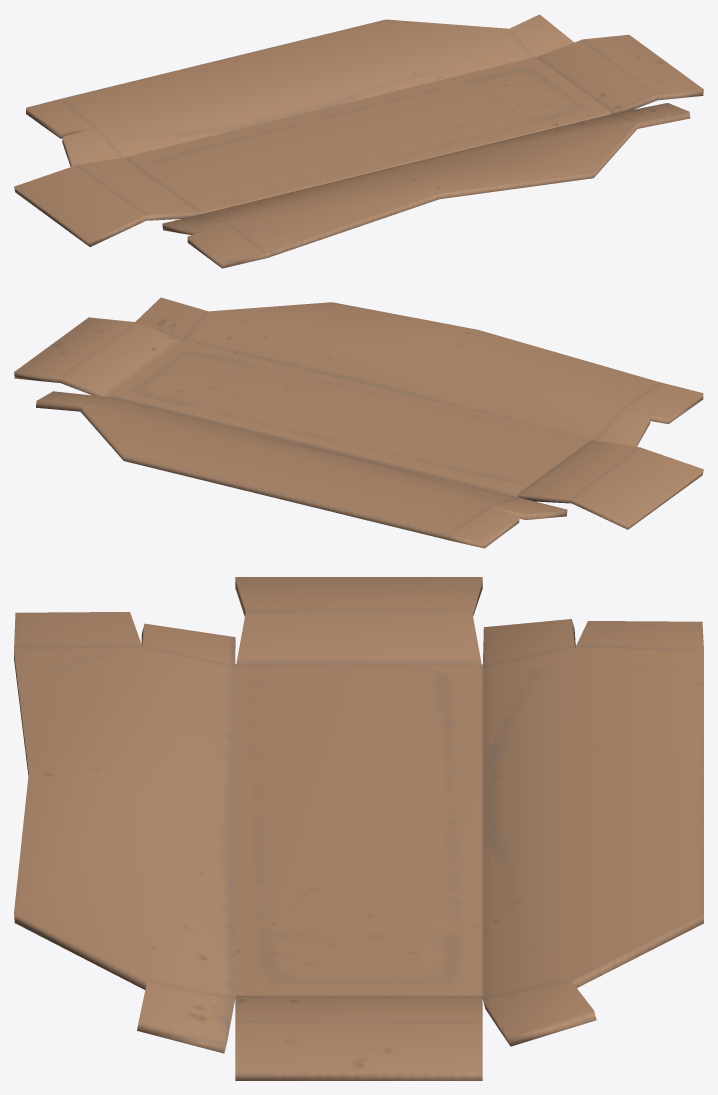
Rendered from SM_CartonDrawer_08.FBX.
The picture shows the model from 3 angles, top to bottom: view 1: azimuth 30°, elevation 25°; view 2: azimuth 150°, elevation 25°; view 3: azimuth 270°, elevation 25°; orthographic projection. The views are drawn at different scales.
Visible parts, largest first — view 1: SM_CartonDrawer_08; view 2: SM_CartonDrawer_08; view 3: SM_CartonDrawer_08.
Boxes of the visible parts, box(x1,y1,x2,y2) form: SM_CartonDrawer_08: box(14, 14, 703, 268); SM_CartonDrawer_08: box(14, 297, 703, 548); SM_CartonDrawer_08: box(14, 577, 703, 1080).
Size of what is drawn, in the model's own units: 73.24 by 42.97 by 3.46.
